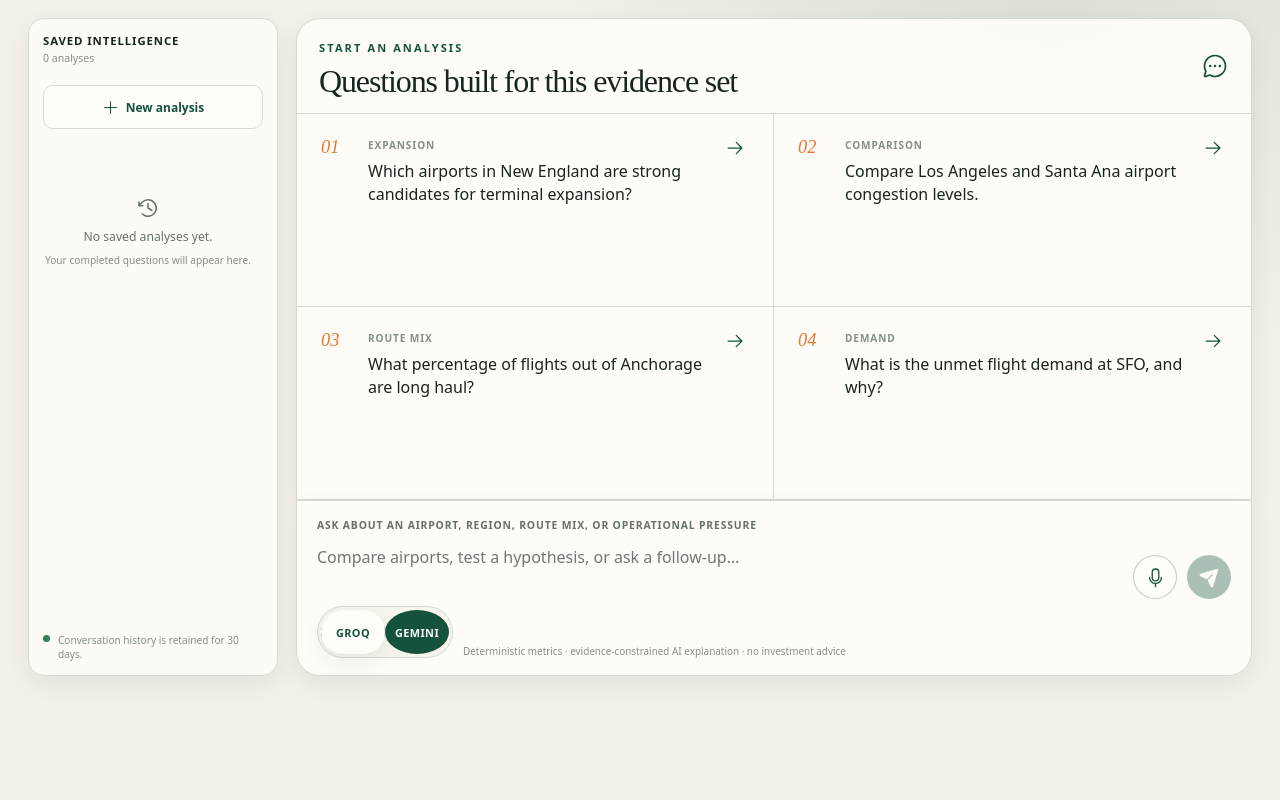
client voice dictation › keeps dictation available after recognition is blocked
Click the button named "Dictate question". click: (1155, 577)
box: [1133,555,1177,599]
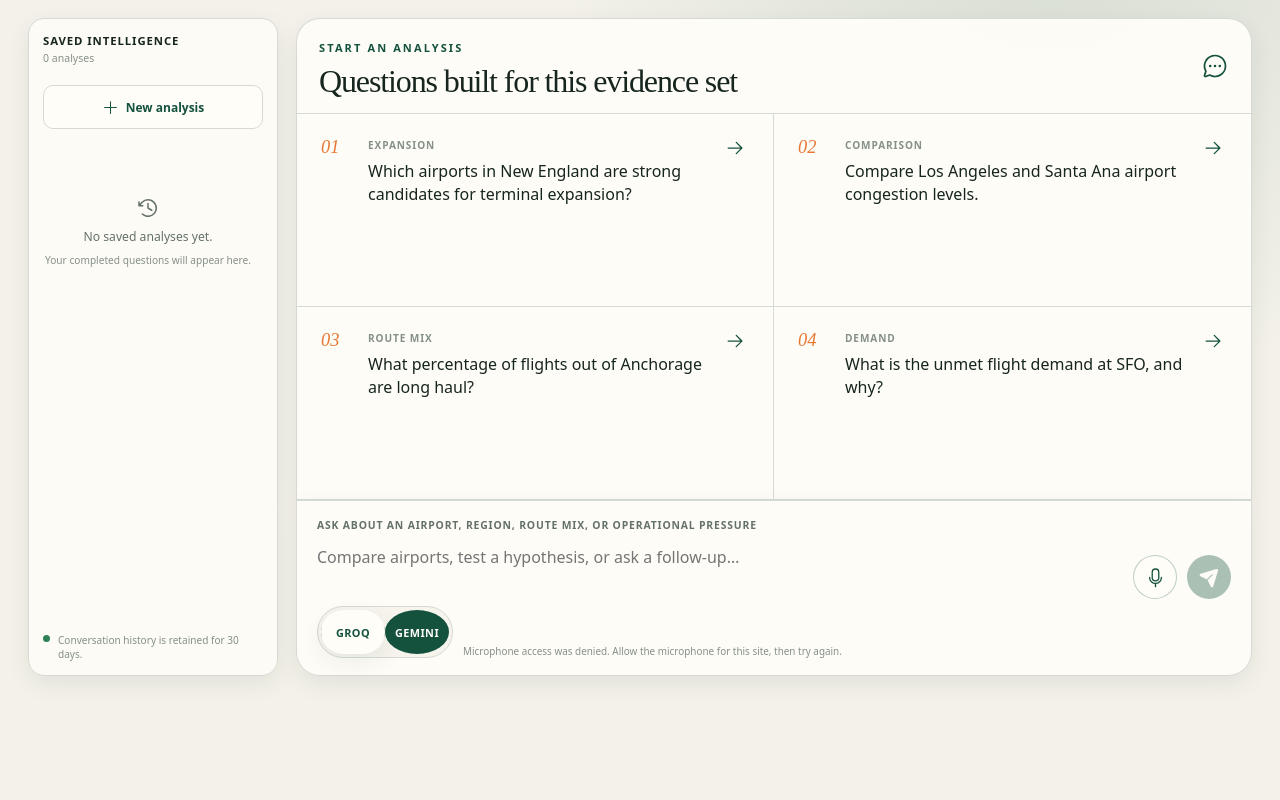
Check: the text "Microphone access was denied" is shown, box [463,644,842,658]
